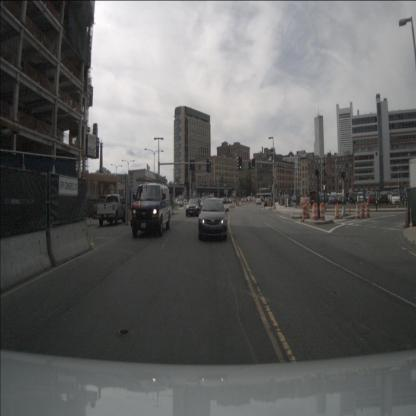movable_object-barrier: (0, 230, 52, 294), (44, 221, 90, 267), (348, 200, 352, 216)
movable_object-trafficcone: (311, 201, 319, 221), (319, 201, 326, 221), (301, 204, 308, 221), (311, 203, 317, 220), (404, 203, 408, 228), (334, 204, 340, 220), (354, 204, 360, 220), (304, 202, 310, 218), (360, 204, 365, 219), (365, 204, 370, 218), (270, 200, 273, 208), (267, 200, 270, 207), (232, 199, 235, 206), (241, 198, 243, 205), (248, 198, 250, 204), (236, 199, 238, 205)
vehicle-car: (130, 182, 170, 237), (198, 198, 229, 242), (185, 198, 203, 217), (390, 192, 400, 206), (200, 196, 210, 209), (379, 191, 388, 205), (385, 190, 393, 204), (347, 192, 356, 204), (319, 192, 328, 204), (368, 192, 376, 205), (365, 190, 373, 203), (338, 192, 346, 204), (357, 192, 364, 204), (264, 197, 272, 207), (329, 194, 336, 204), (256, 198, 262, 205), (229, 197, 234, 204), (260, 195, 264, 202)
vehicle-truck: (96, 195, 126, 226), (306, 190, 322, 206)
